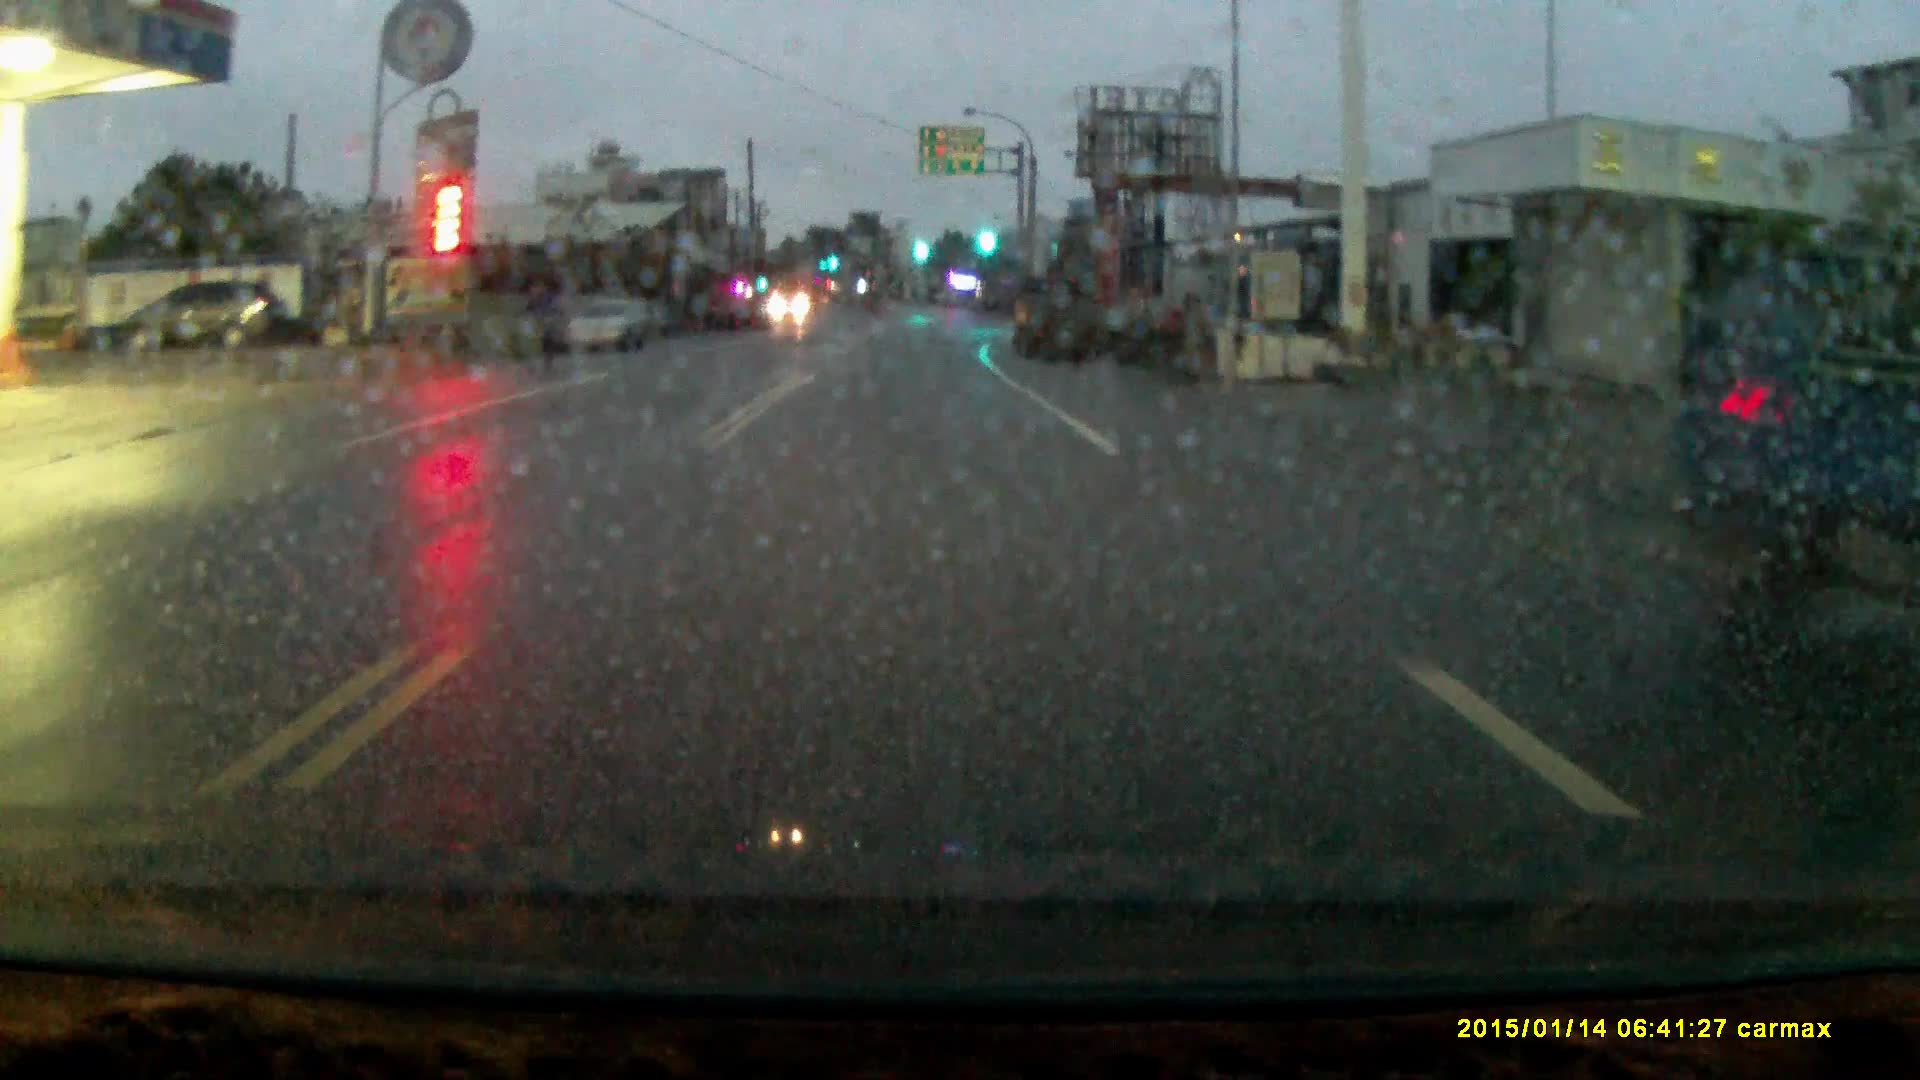rider: (510, 254, 574, 382)
vehicle: (1696, 260, 1904, 596), (115, 278, 293, 351), (1008, 268, 1103, 369), (561, 298, 669, 357)
